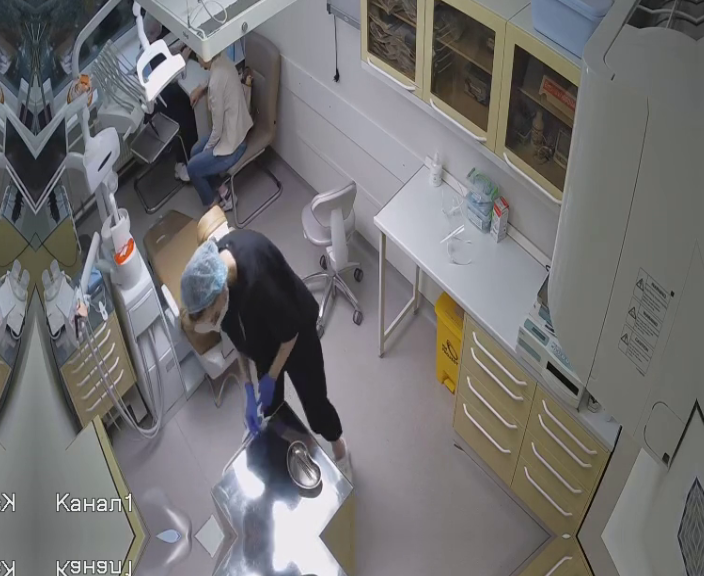Empty: (135, 204, 258, 379)
